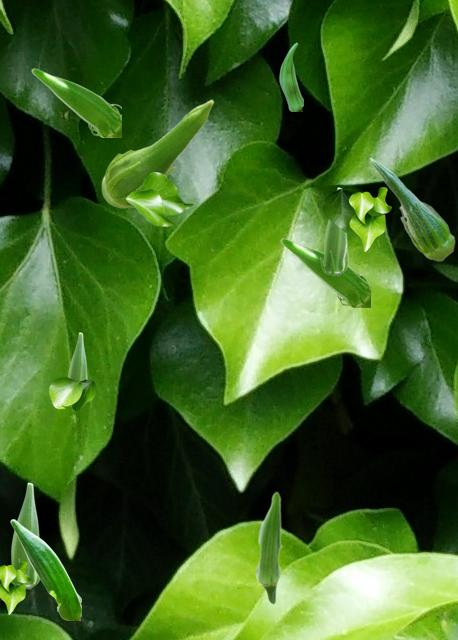okra: (101, 99, 213, 207), (369, 157, 454, 260), (10, 519, 80, 619), (31, 68, 120, 136), (280, 238, 369, 306), (10, 482, 39, 588), (255, 491, 281, 604), (320, 187, 347, 274), (279, 42, 302, 110), (67, 332, 87, 406)
